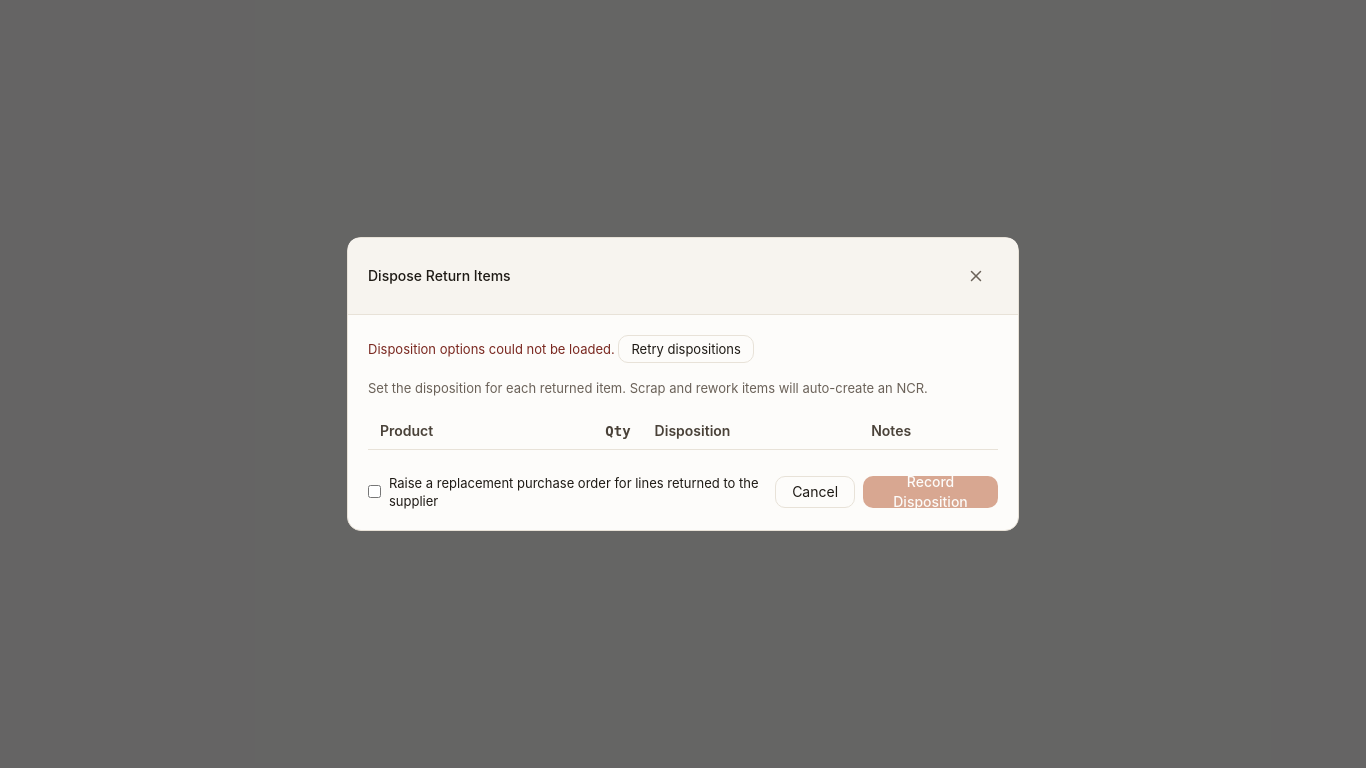
Test: shows and retries a failed disposition lookup while blocking stock-changing submission
This screenshot has width=1366, height=768.
Expected: the message shows "Disposition options could not be loaded", [368,341,618,357]
Expected: the button "Record Disposition" is disabled, [863,476,998,508]
What coordinates should you click on to do the following:
click the button "Retry dispositions"
I would click on:
 (686, 349)
Its box is [618,335,754,363].
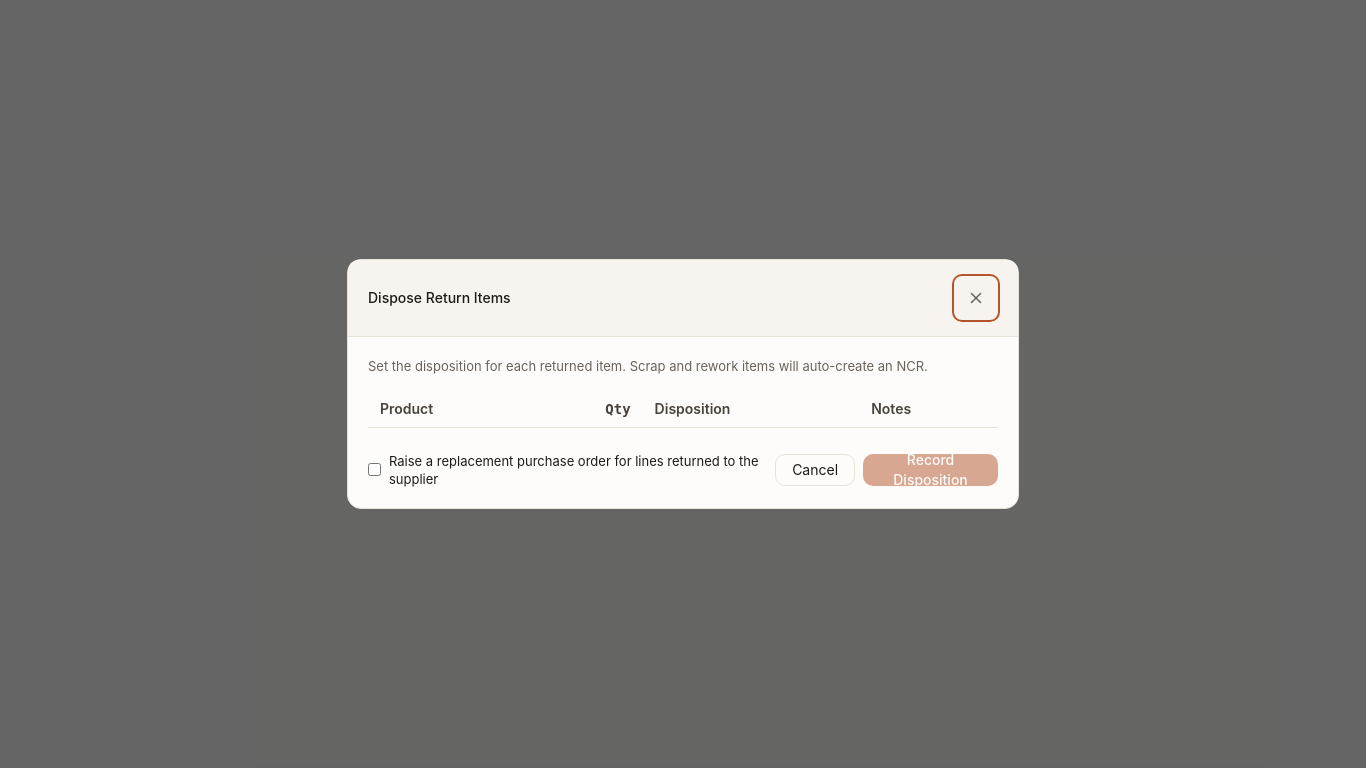
Result: the message "Disposition options could not be loaded. Retry dispositions" is gone
